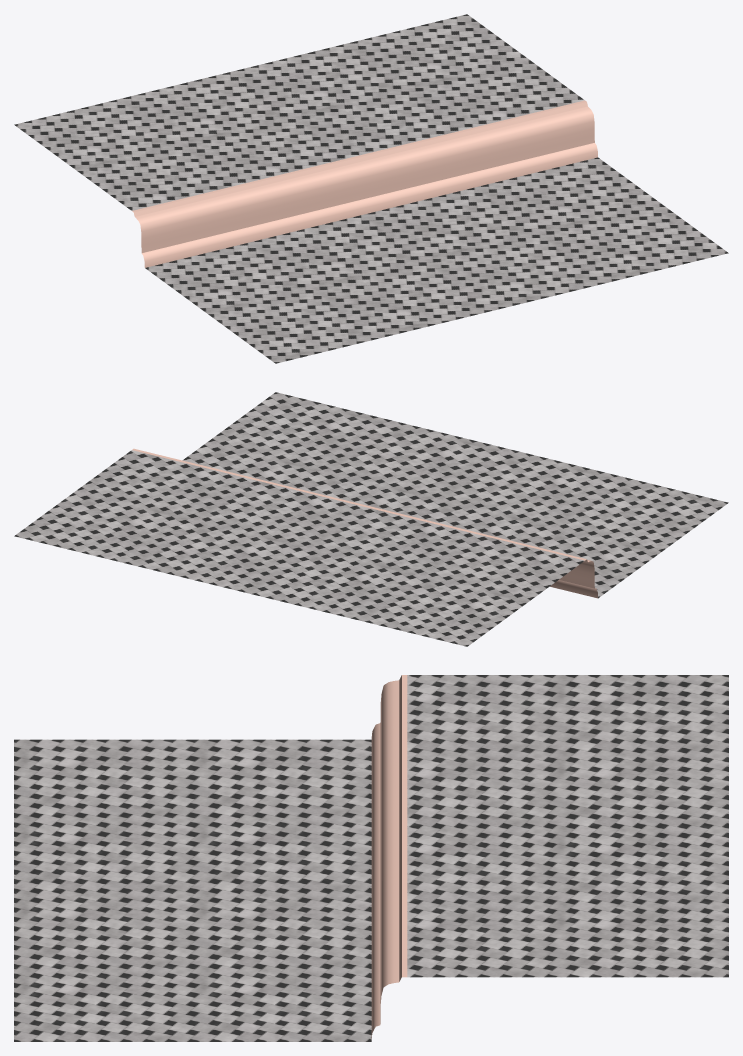
The model's file is Shop_Floor_Step.fbx.
3 views of the same model, one above another, from view 1: azimuth 30°, elevation 25°; view 2: azimuth 150°, elevation 25°; view 3: azimuth 270°, elevation 25° (orthographic). The views are drawn at different scales.
Parts seen in each view (by area): view 1: Floor_Step; view 2: Floor_Step; view 3: Floor_Step.
Part boxes in pixels (bbox=[...]): Floor_Step: bbox=[14, 14, 728, 363]; Floor_Step: bbox=[14, 392, 728, 646]; Floor_Step: bbox=[14, 675, 728, 1041].
Size of the model in its own units: 100 by 10 by 100.
